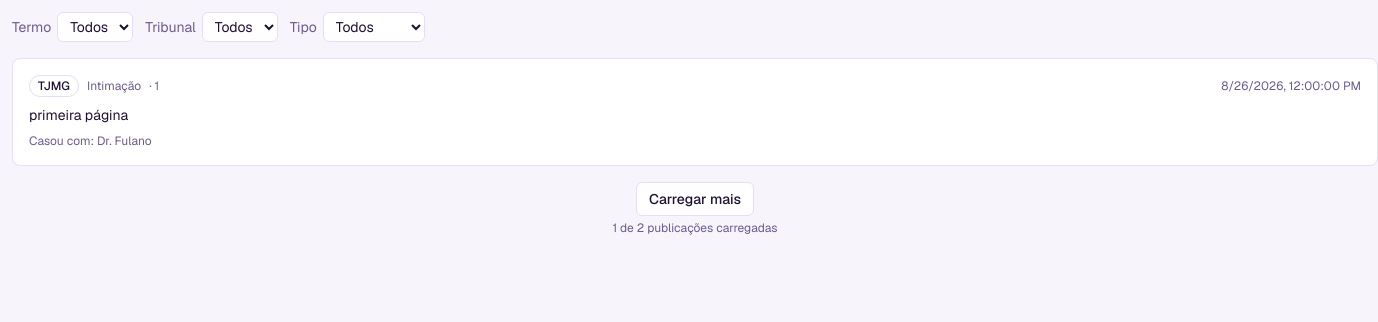
Test: MatchedPublicationsFeed › 'Carregar mais' acumula a próxima página
Expected: the text "primeira página" is shown, [29,106,128,124]
Expected: the text "1 de 2 publicações carregadas" is shown, [612,220,778,236]
Click the button "Carregar mais" at coordinates (695, 199), box [636,182,754,216]
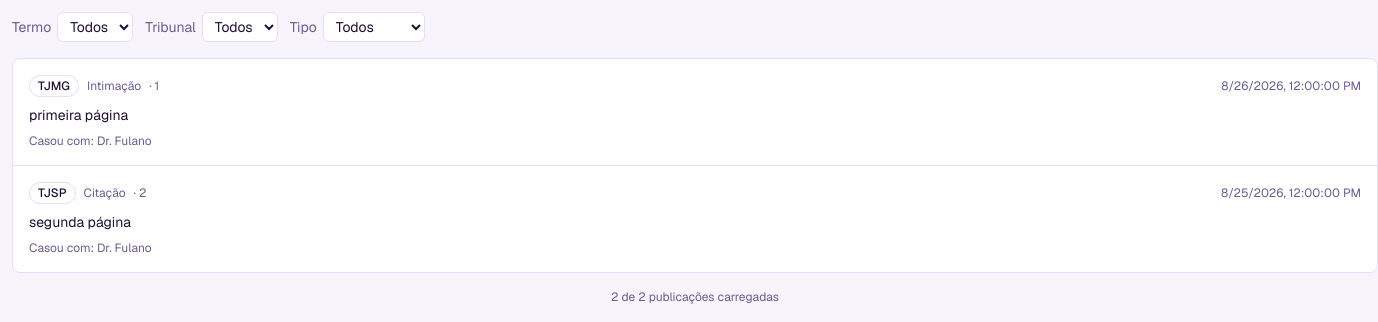
Expected: the text "primeira página" is shown, [29,106,128,124]
Expected: the text "segunda página" is shown, [29,213,131,231]
Expected: the text "2 de 2 publicações carregadas" is shown, [611,289,779,305]
